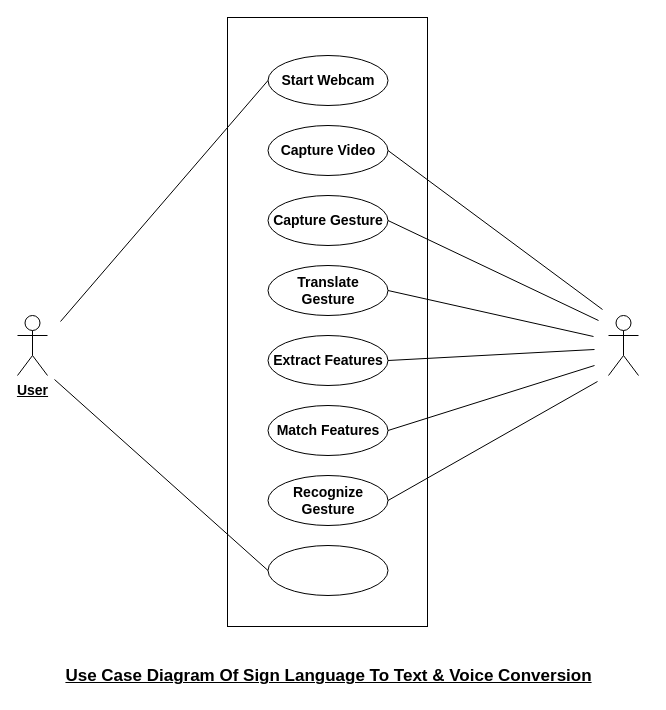
The diagram is 666 pixels wide and 710 high, and some of its shapes have lost their labels. Here are the shapes that lost their labels. From the top down, the centre of each, then its label:
At (x=623, y=345): "System".
At (x=327, y=570): "Display Result".
